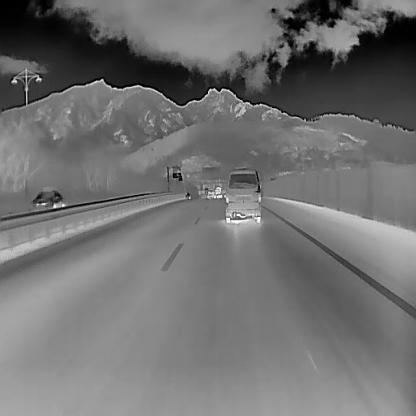car: (225, 167, 261, 222), (30, 189, 66, 210), (207, 188, 215, 198), (215, 189, 222, 198)
